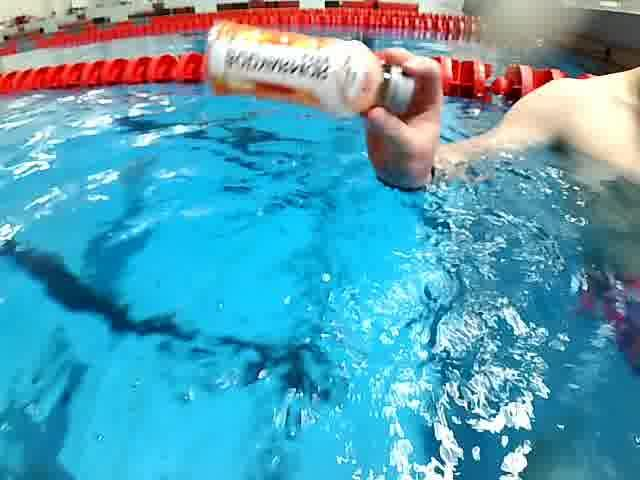Bottle: (199, 15, 418, 120)
